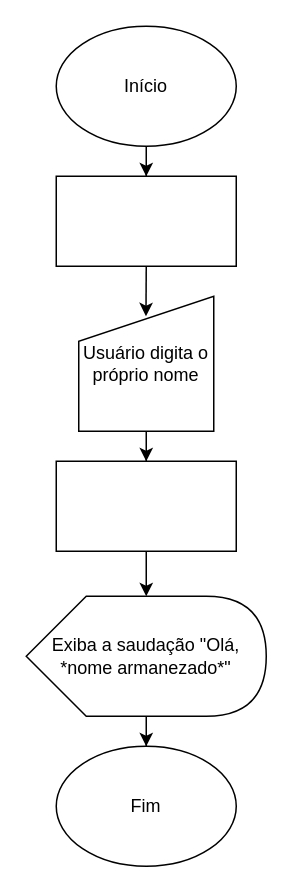
The diagram is 293 pixels wide and 893 high, and some of its shapes have lost their labels. The centre of each missing label's shape, as x and y in pixels:
"Armazene o nome do usuário" belongs at (145,505).
"Requisite ao usuário que ele digite seu nome" belongs at (145,220).
